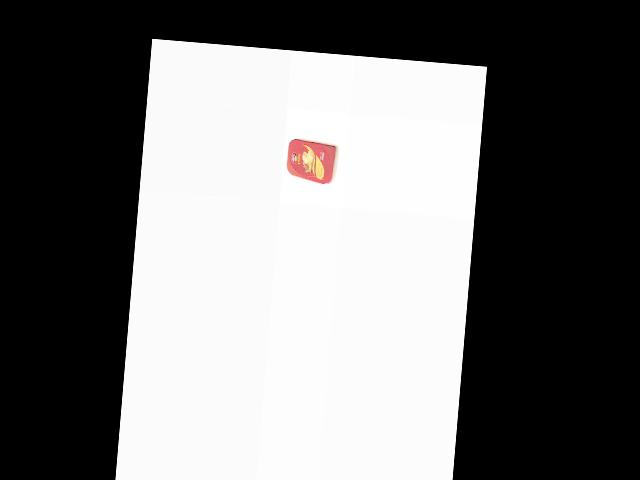cheese: (282, 136, 339, 184)
